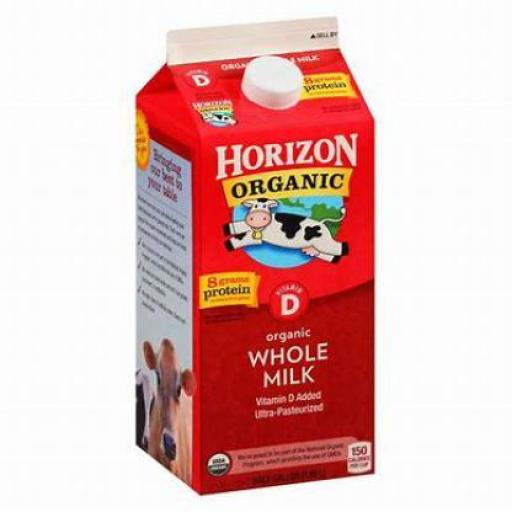drink carton: (134, 15, 376, 495)
plastic bottle cap: (241, 55, 306, 111)
